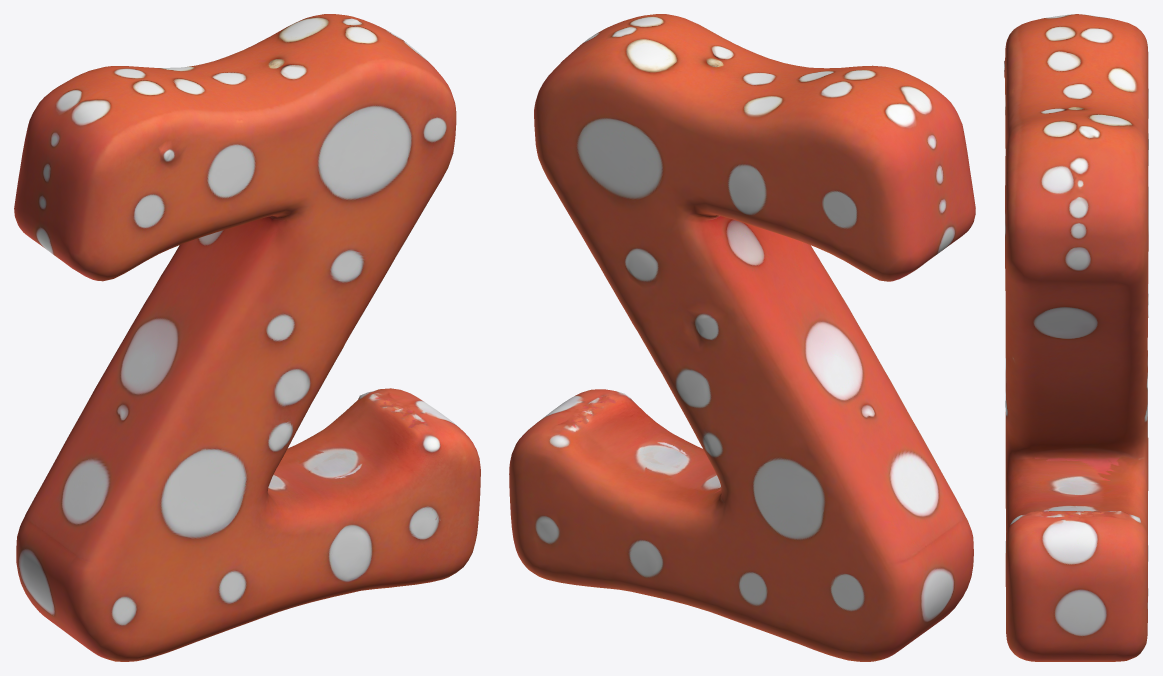
3 views of the same model, side by side, from view 1: azimuth 30°, elevation 25°; view 2: azimuth 150°, elevation 25°; view 3: azimuth 270°, elevation 25° (orthographic). The views are drawn at different scales.
Size of the model in its own units: 1.55 by 2 by 0.5116.
Materials: 1 (1 with a texture image).
